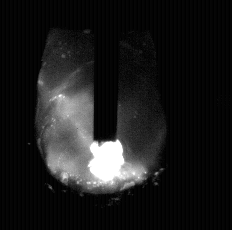arame: (95, 0, 118, 146)
poca: (35, 0, 165, 230)
